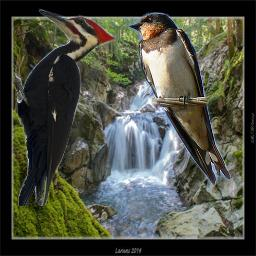Swallow: (127, 12, 231, 185)
Woodpecker: (15, 8, 120, 206)
